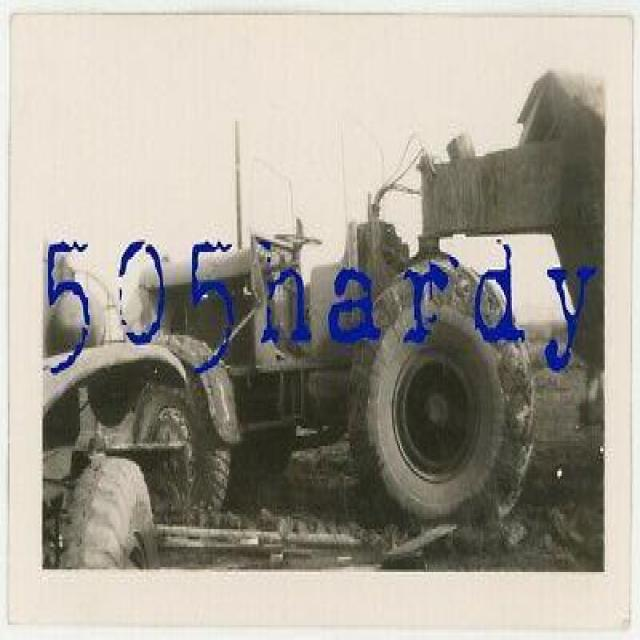Tanks: (52, 74, 574, 576)
